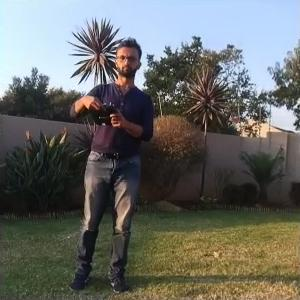follow: (63, 32, 158, 294)
